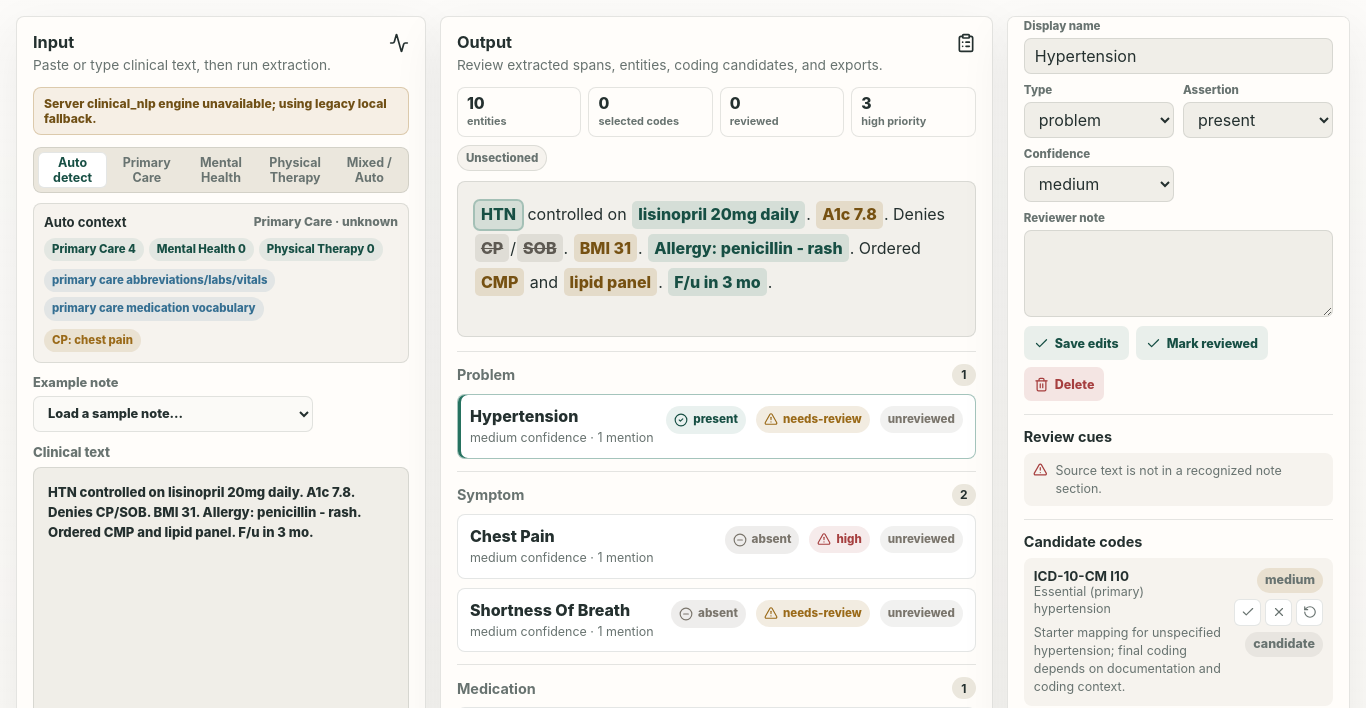
Test: ClinicalEntityExtractorPrototype › lets reviewers delete false positive entities
(page scrolled)
Click the button "Delete".
click(1064, 384)  # box [1024,367,1104,401]
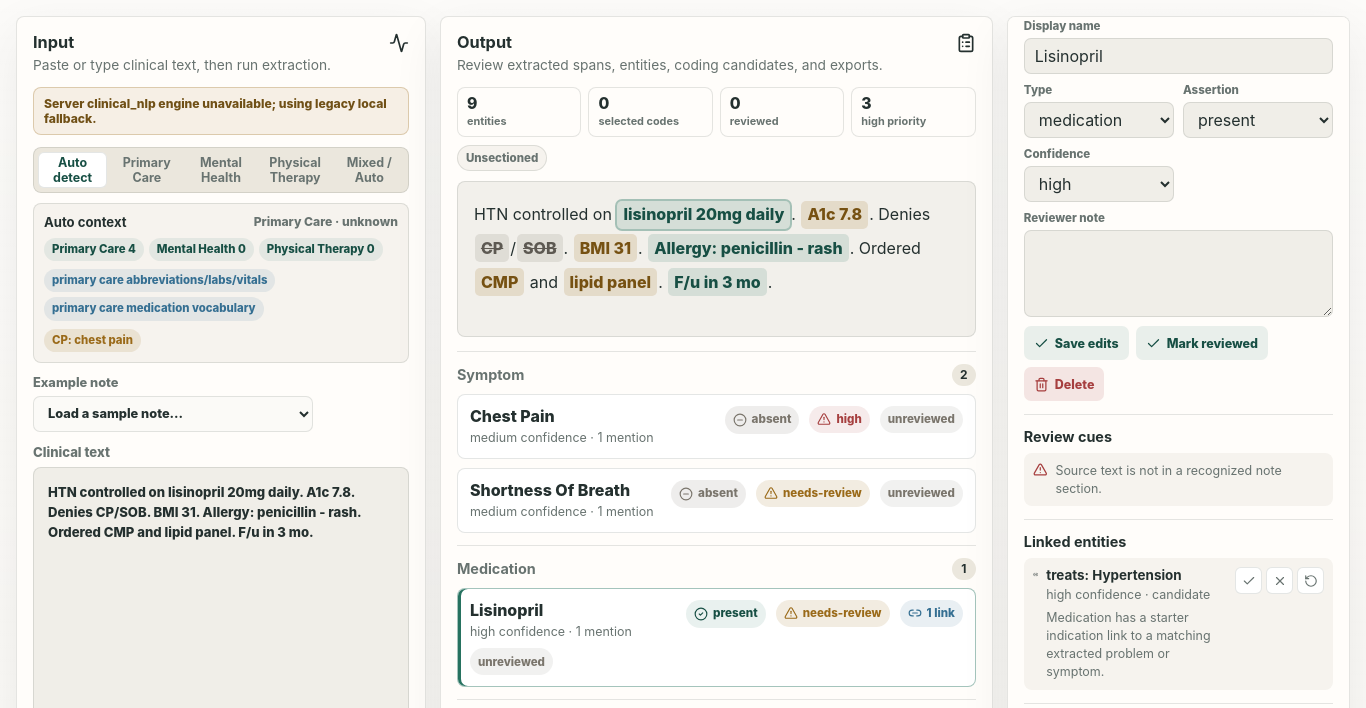
Expected: no buttons "Hypertension" are shown
